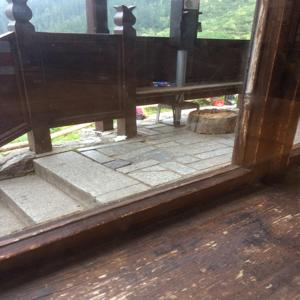paper: (115, 133, 131, 146)
plastic bottle: (150, 78, 171, 89)
